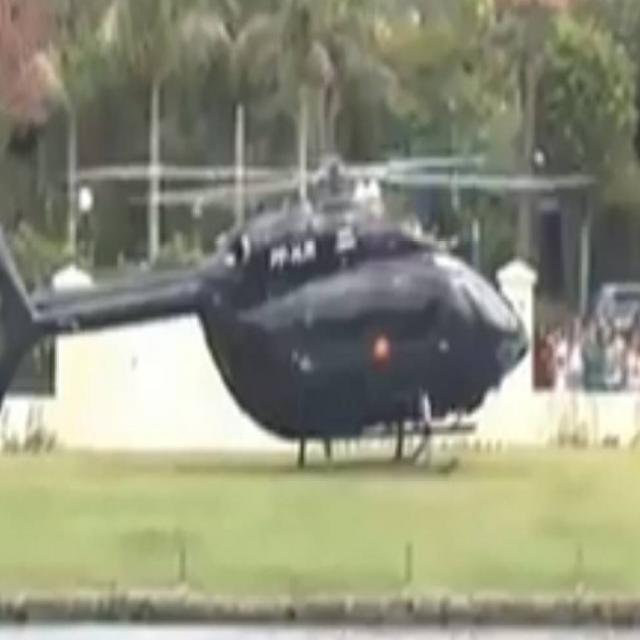helicopter: (1, 133, 593, 490)
